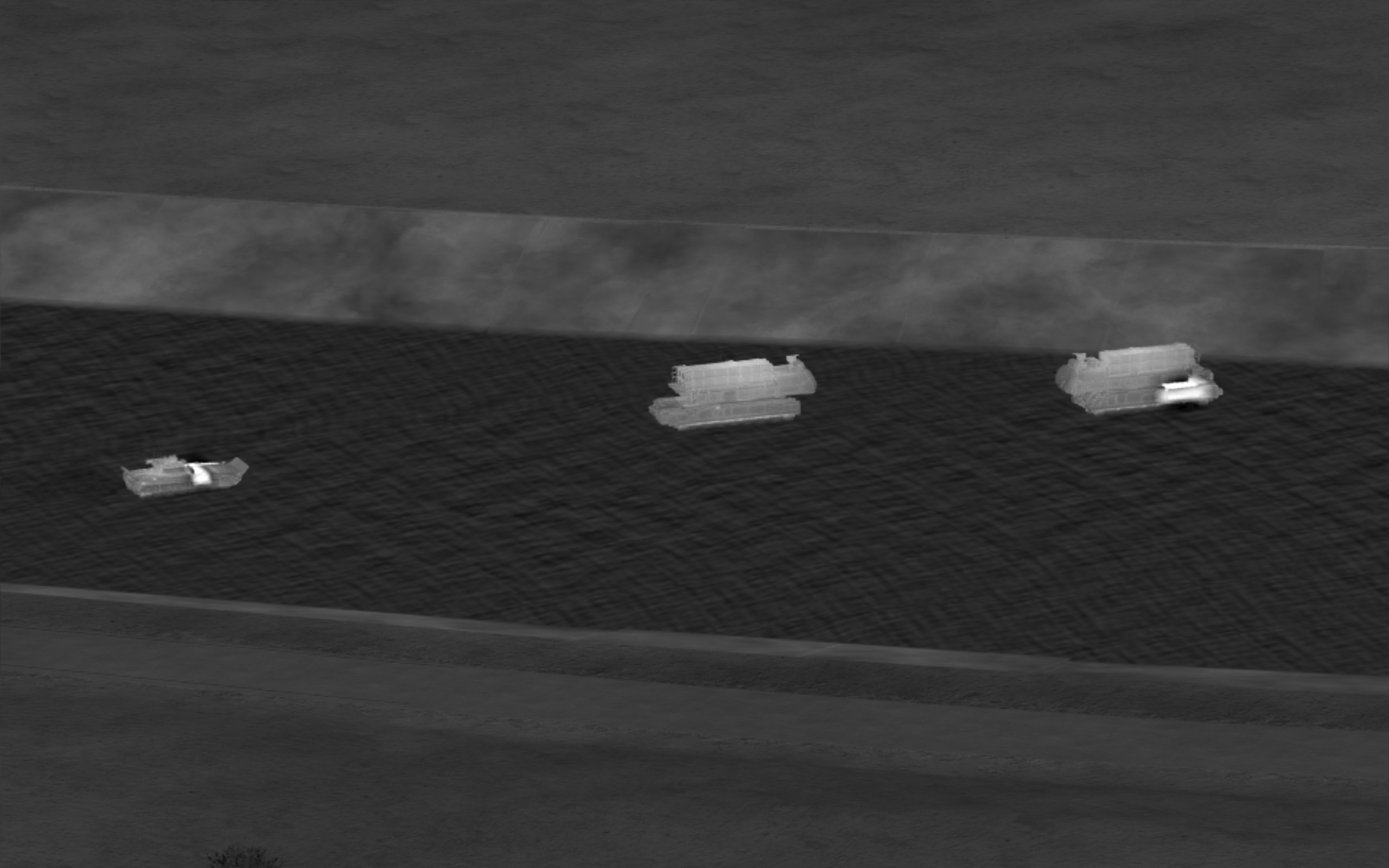BUK_TELAR: (649, 354, 818, 431), (1055, 343, 1223, 416)
bmp2: (120, 454, 249, 499)
